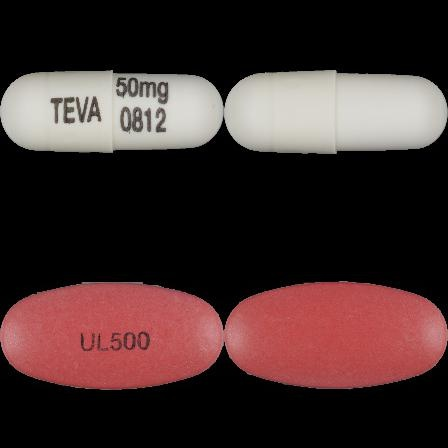63629-4276: (0, 0, 224, 224)
